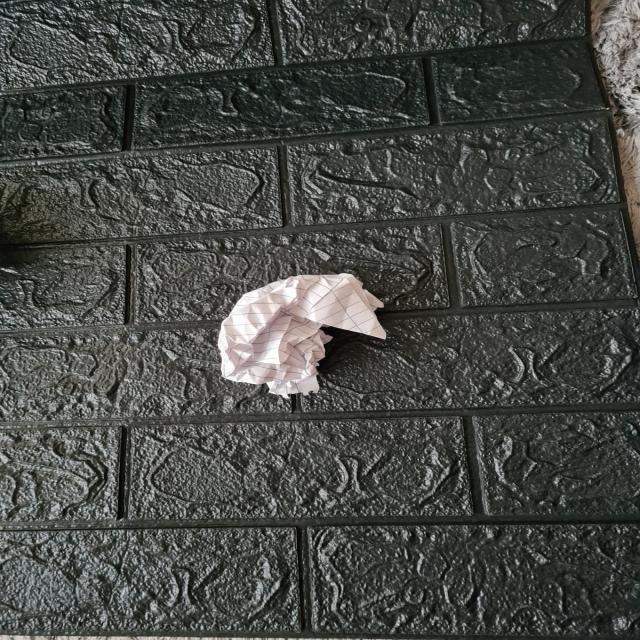Paper: (220, 271, 387, 392)
